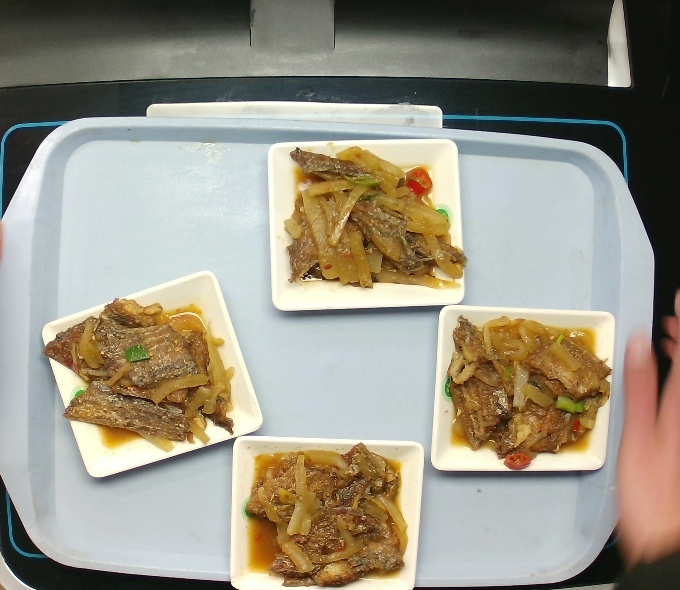wcq-DaiYu: (37, 288, 241, 456), (436, 307, 619, 476), (277, 140, 473, 294), (244, 437, 413, 590)
